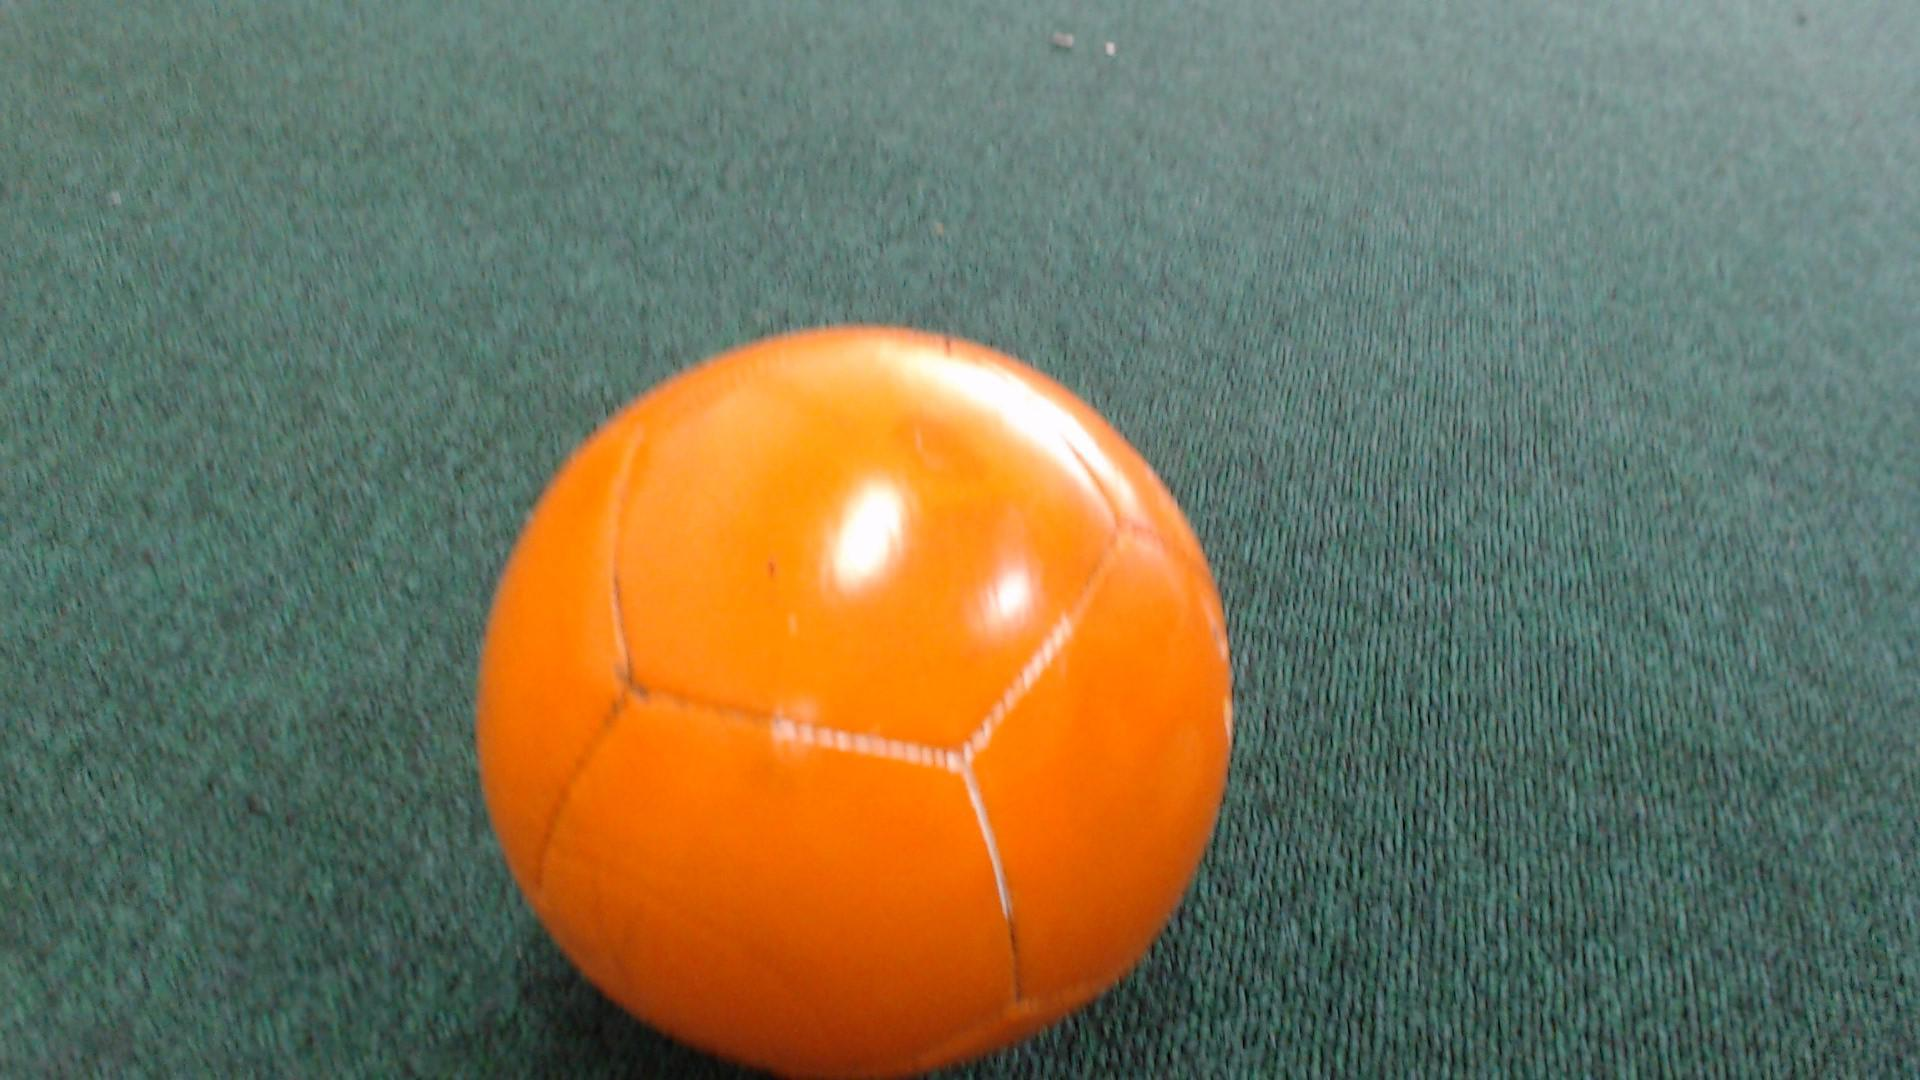bola: (401, 315, 1284, 1079)
